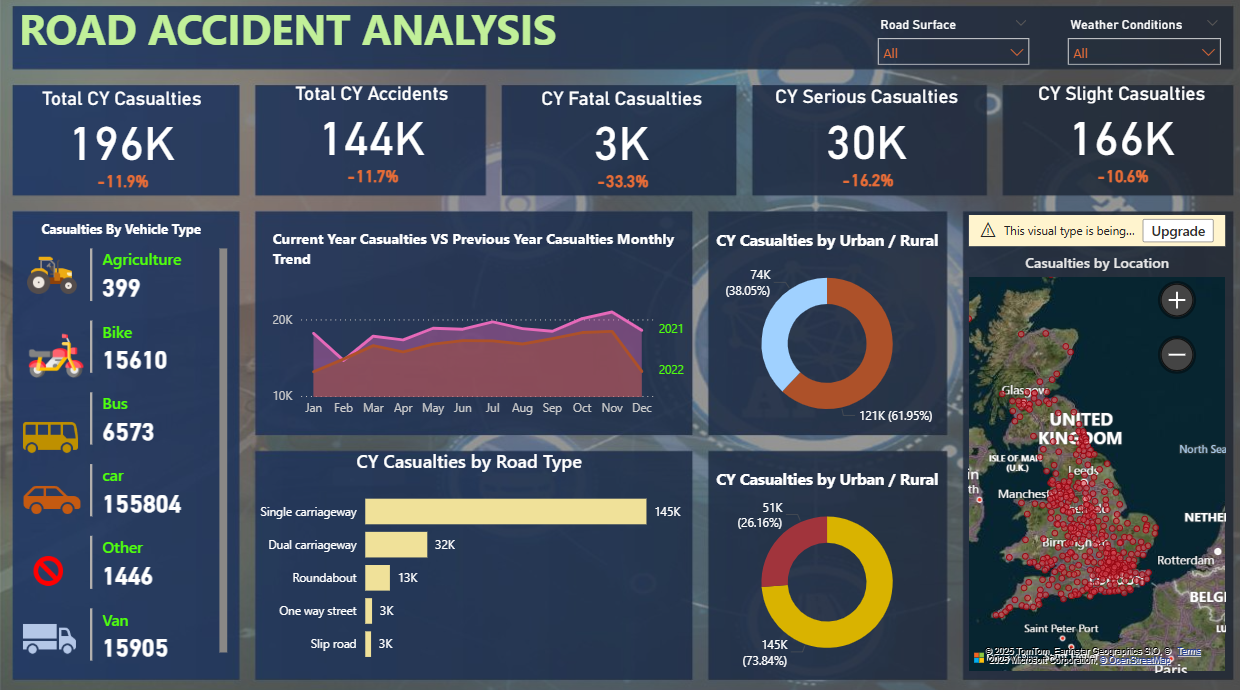

The page's visual inventory and layout, read from the dashboard file:
{"tool":"powerbi","page":{"name":"Page 1","canvas":[1280,720],"ordinal":0},"visuals":[{"type":"card","title":"Total CY Accidents","fields":{"Values":["Data.CY Accident count"]},"box":[271.7,89.2,220.9,82.3],"z":0,"group":"g2"},{"type":"card","title":" CY Slight Casualties","fields":{"Values":["Data.CY Casualities"]},"box":[1041.5,89.2,220.9,82.3],"z":0,"group":"g8"},{"type":"card","title":" CY Serious Casualties","fields":{"Values":["Data.CY Casualities"]},"box":[779.4,94.1,220.9,82.3],"z":0,"group":"g6"},{"type":"group","id":"g1","title":"Group 1","box":[15.1,94.7,220.9,112.5],"z":0},{"type":"card","title":"Total CY Casualties","fields":{"Values":["Data.CY Casualities"]},"box":[15.1,94.7,220.9,82.3],"z":0,"group":"g3"},{"type":"card","title":" CY Fatal Casualties","fields":{"Values":["Data.CY Casualities"]},"box":[528.3,94.7,220.9,82.3],"z":0,"group":"g4"},{"type":"group","id":"g2","title":"Group 2","box":[271.7,89.2,220.9,112.5],"z":3,"group":"g5"},{"type":"group","id":"g3","title":"Group 2","box":[15.1,94.7,220.9,112.5],"z":3,"group":"g1"},{"type":"group","id":"g4","title":"Group 2","box":[528.3,94.7,220.9,112.5],"z":3,"group":"g7"},{"type":"group","id":"g5","title":"Group 1","box":[271.7,89.2,220.9,112.5],"z":1000},{"type":"card","fields":{"Values":["Data.YOY Accidents"]},"box":[341.7,171.5,82.3,30.2],"z":1000,"group":"g2"},{"type":"card","fields":{"Values":["Data.YOY Casulties"]},"box":[1111.5,171.5,82.3,30.2],"z":1000,"group":"g8"},{"type":"card","fields":{"Values":["Data.YOY Casulties"]},"box":[849.4,176.4,82.3,30.2],"z":1000,"group":"g6"},{"type":"card","fields":{"Values":["Data.YOY Casulties"]},"box":[85.1,177,82.3,30.2],"z":1000,"group":"g3"},{"type":"card","fields":{"Values":["Data.YOY Casulties"]},"box":[598.3,177,82.3,30.2],"z":1000,"group":"g4"},{"type":"group","id":"g6","title":"Group 2","box":[779.4,94.1,220.8,112.2],"z":2000},{"type":"group","id":"g7","title":"Group 1","box":[528.3,94.7,220.9,112.5],"z":3000},{"type":"group","id":"g8","title":"Group 2","box":[1041.5,89.2,220.9,112.5],"z":4000},{"type":"multiRowCard","fields":{"Values":["Data.Vehicle_Type (groups)","Data.CY Casualities"]},"box":[87.8,255.2,150.9,439.1],"z":5000},{"type":"image","box":[13.7,625.7,75.5,68.6],"z":6000},{"type":"image","box":[15.1,337.6,86.4,65.9],"z":7000},{"type":"image","box":[15.1,566.7,70,48],"z":8000},{"type":"image","box":[16.5,255.2,75.5,64.5],"z":9000},{"type":"image","box":[17.8,474.8,72.7,86.4],"z":10000},{"type":"image","box":[13.7,418.5,78.2,71.4],"z":11000},{"type":"textbox","box":[38.4,225,175.6,30.2],"z":12000},{"type":"areaChart","title":"Current Year Casualties VS Previous Year Casualties Monthly Trend","fields":{"Category":["Calender.Month"],"Y":["Sum(Data.Number_of_Casualties)"],"Series":["Calender.Date.Variation.Date Hierarchy.Year"]},"box":[275.8,240.1,435,201.7],"z":13000},{"type":"donutChart","title":"CY Casualties by Urban / Rural","fields":{"Category":["Data.Urban_or_Rural_Area"],"Y":["Data.CY Casualities"]},"box":[710.8,240.1,278.6,214.1],"z":14000},{"type":"donutChart","title":"CY Casualties by light Condition","fields":{"Y":["Data.CY Casualities"],"Category":["Data.Light_Conditions (groups)"]},"box":[710.8,484.4,278.6,214.1],"z":15000},{"type":"barChart","title":"CY Casualties by Road Type","fields":{"Category":["Data.Road_Type"],"Y":["Data.CY Casualities"]},"box":[253.9,465.2,456.9,233.3],"z":16000},{"type":"map","title":"Casualties by Location","fields":{"Y":["Data.Latitude"],"X":["Data.Longitude"],"Series":["Data.Local_Authority_(District)"]},"box":[989.4,225,273.1,473.4],"z":17000},{"type":"slicer","fields":{"Values":["Data.Weather_Conditions (groups)"]},"box":[1085.4,17.8,177,53.5],"z":18000},{"type":"slicer","fields":{"Values":["Data.Road_Surface_Conditions (groups)"]},"box":[890.6,17.8,175.6,53.5],"z":19000},{"type":"textbox","box":[15.4,0,733.3,71.8],"z":20000}]}

Visuals, with their boxes in screenshot pixels (x1, y1, x2, y2), scaled from the page's 1280x720 canvas onto the 1240x690 screenshot:
"Total CY Accidents" card: [263, 85, 477, 164]
" CY Slight Casualties" card: [1009, 85, 1223, 164]
" CY Serious Casualties" card: [755, 90, 969, 169]
"Group 1" group: [15, 91, 229, 199]
"Total CY Casualties" card: [15, 91, 229, 170]
" CY Fatal Casualties" card: [512, 91, 726, 170]
"Group 2" group: [263, 85, 477, 193]
"Group 2" group: [15, 91, 229, 199]
"Group 2" group: [512, 91, 726, 199]
"Group 1" group: [263, 85, 477, 193]
card - Data.YOY Accidents: [331, 164, 411, 193]
card - Data.YOY Casulties: [1077, 164, 1156, 193]
card - Data.YOY Casulties: [823, 169, 903, 198]
card - Data.YOY Casulties: [82, 170, 162, 199]
card - Data.YOY Casulties: [580, 170, 659, 199]
"Group 2" group: [755, 90, 969, 198]
"Group 1" group: [512, 91, 726, 199]
"Group 2" group: [1009, 85, 1223, 193]
multiRowCard - Data.Vehicle_Type (groups) x Data.CY Casualities: [85, 245, 231, 665]
image: [13, 600, 86, 665]
image: [15, 324, 98, 387]
image: [15, 543, 82, 589]
image: [16, 245, 89, 306]
image: [17, 455, 88, 538]
image: [13, 401, 89, 469]
textbox: [37, 216, 207, 245]
"Current Year Casualties VS Previous Year Casualties Monthly Trend" areaChart: [267, 230, 689, 423]
"CY Casualties by Urban / Rural" donutChart: [689, 230, 958, 435]
"CY Casualties by light Condition" donutChart: [689, 464, 958, 669]
"CY Casualties by Road Type" barChart: [246, 446, 689, 669]
"Casualties by Location" map: [958, 216, 1223, 669]
slicer - Data.Weather_Conditions (groups): [1051, 17, 1223, 68]
slicer - Data.Road_Surface_Conditions (groups): [863, 17, 1033, 68]
textbox: [15, 0, 725, 69]
